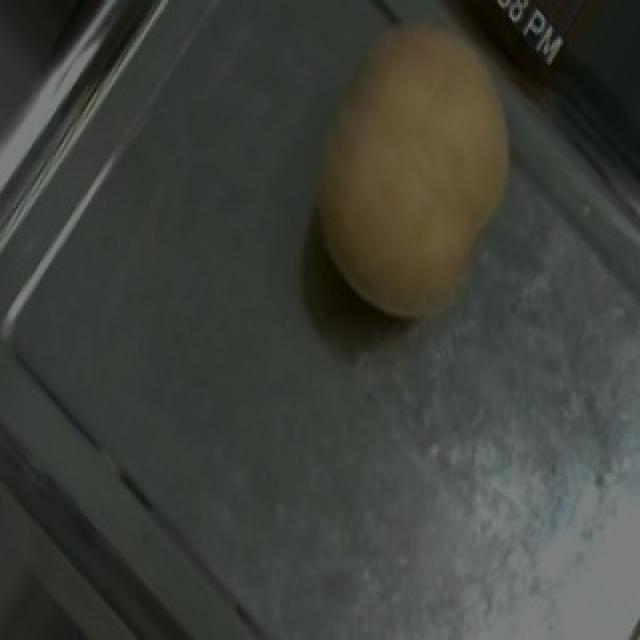Fruit: (262, 0, 560, 345)
